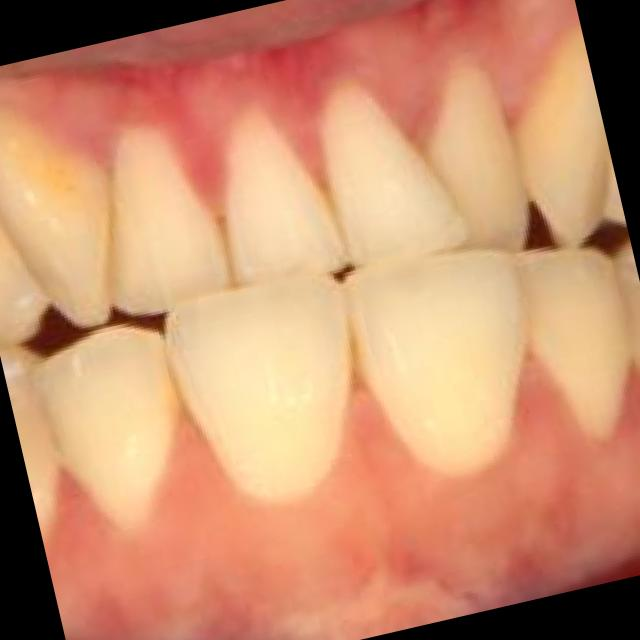karies: (327, 306, 378, 398)
